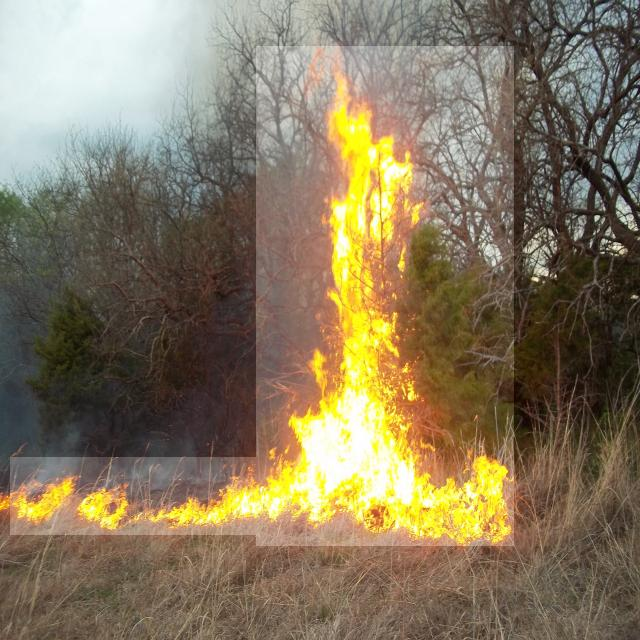Fire: (256, 46, 514, 546), (10, 458, 264, 536)
